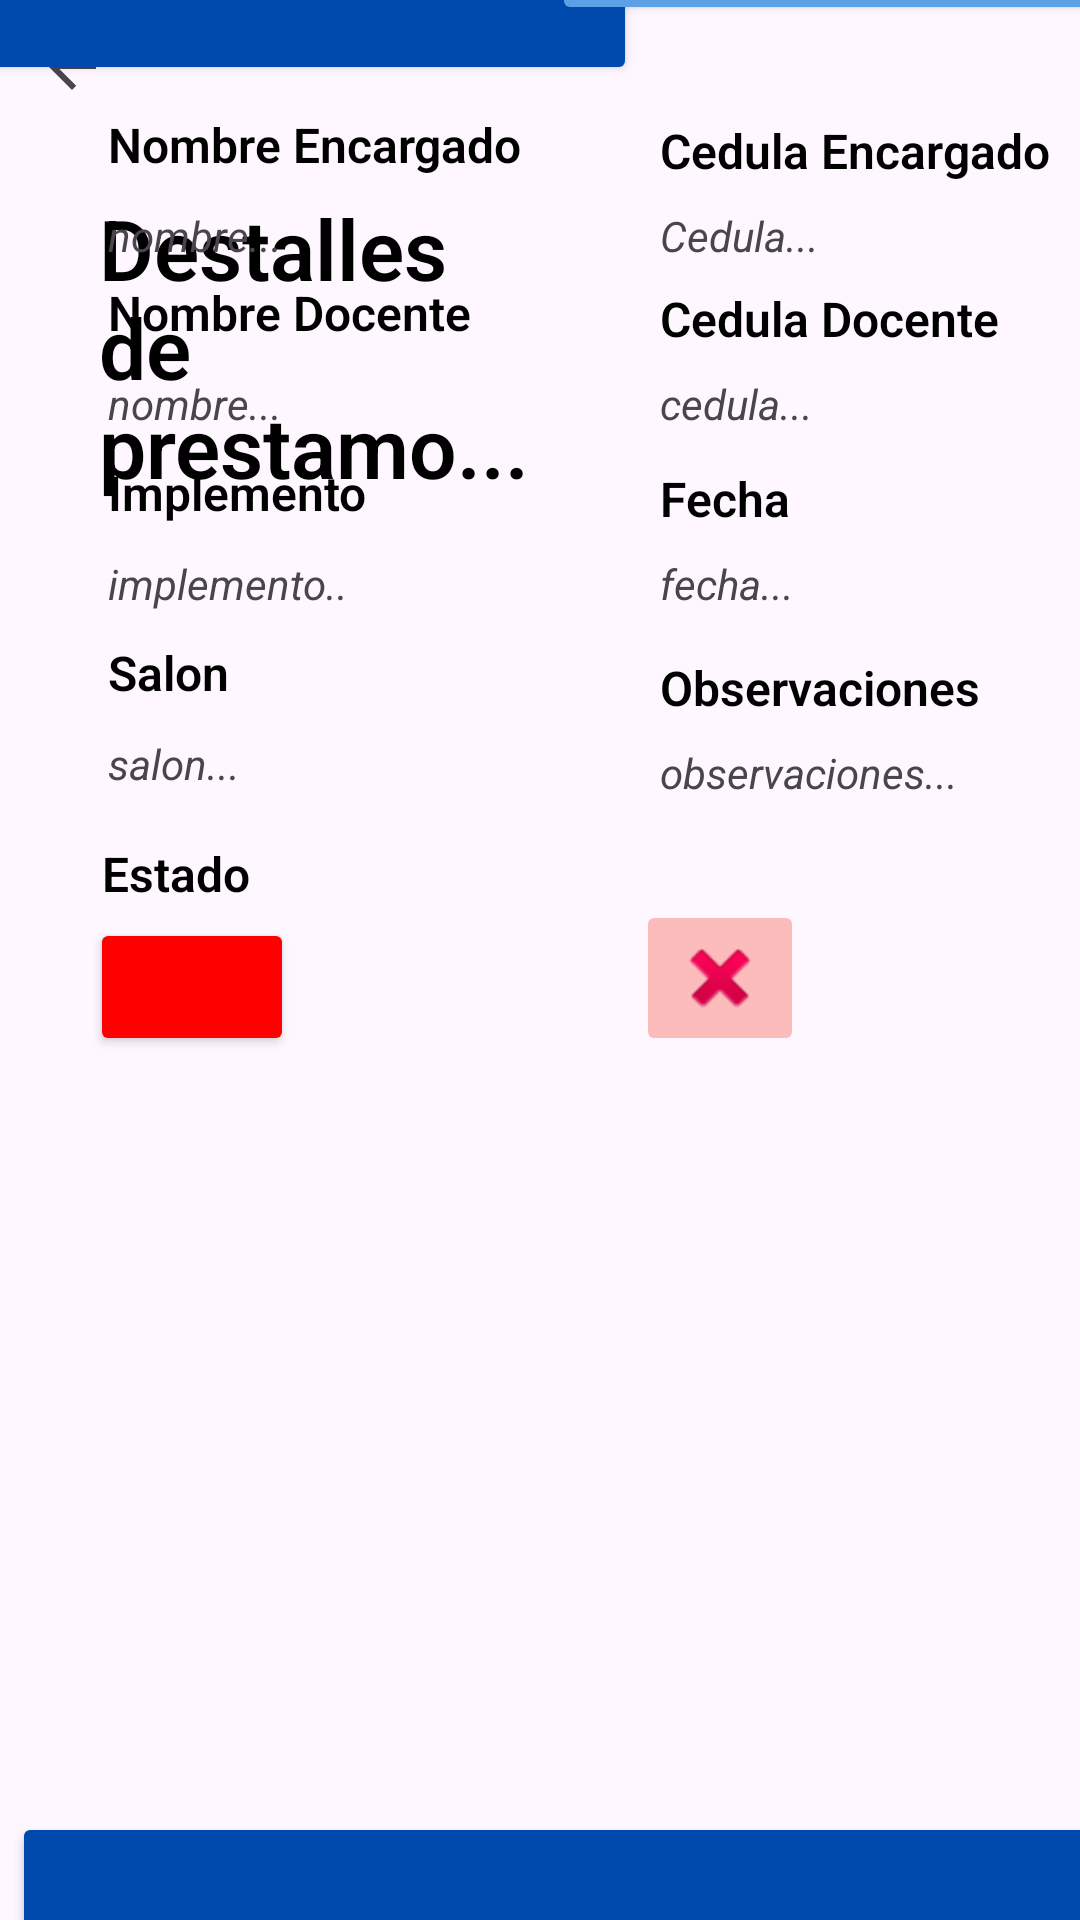

Where to tap for icons on this 1080w x 1920h app screen, as [x,y]:
delete: [720,978]
